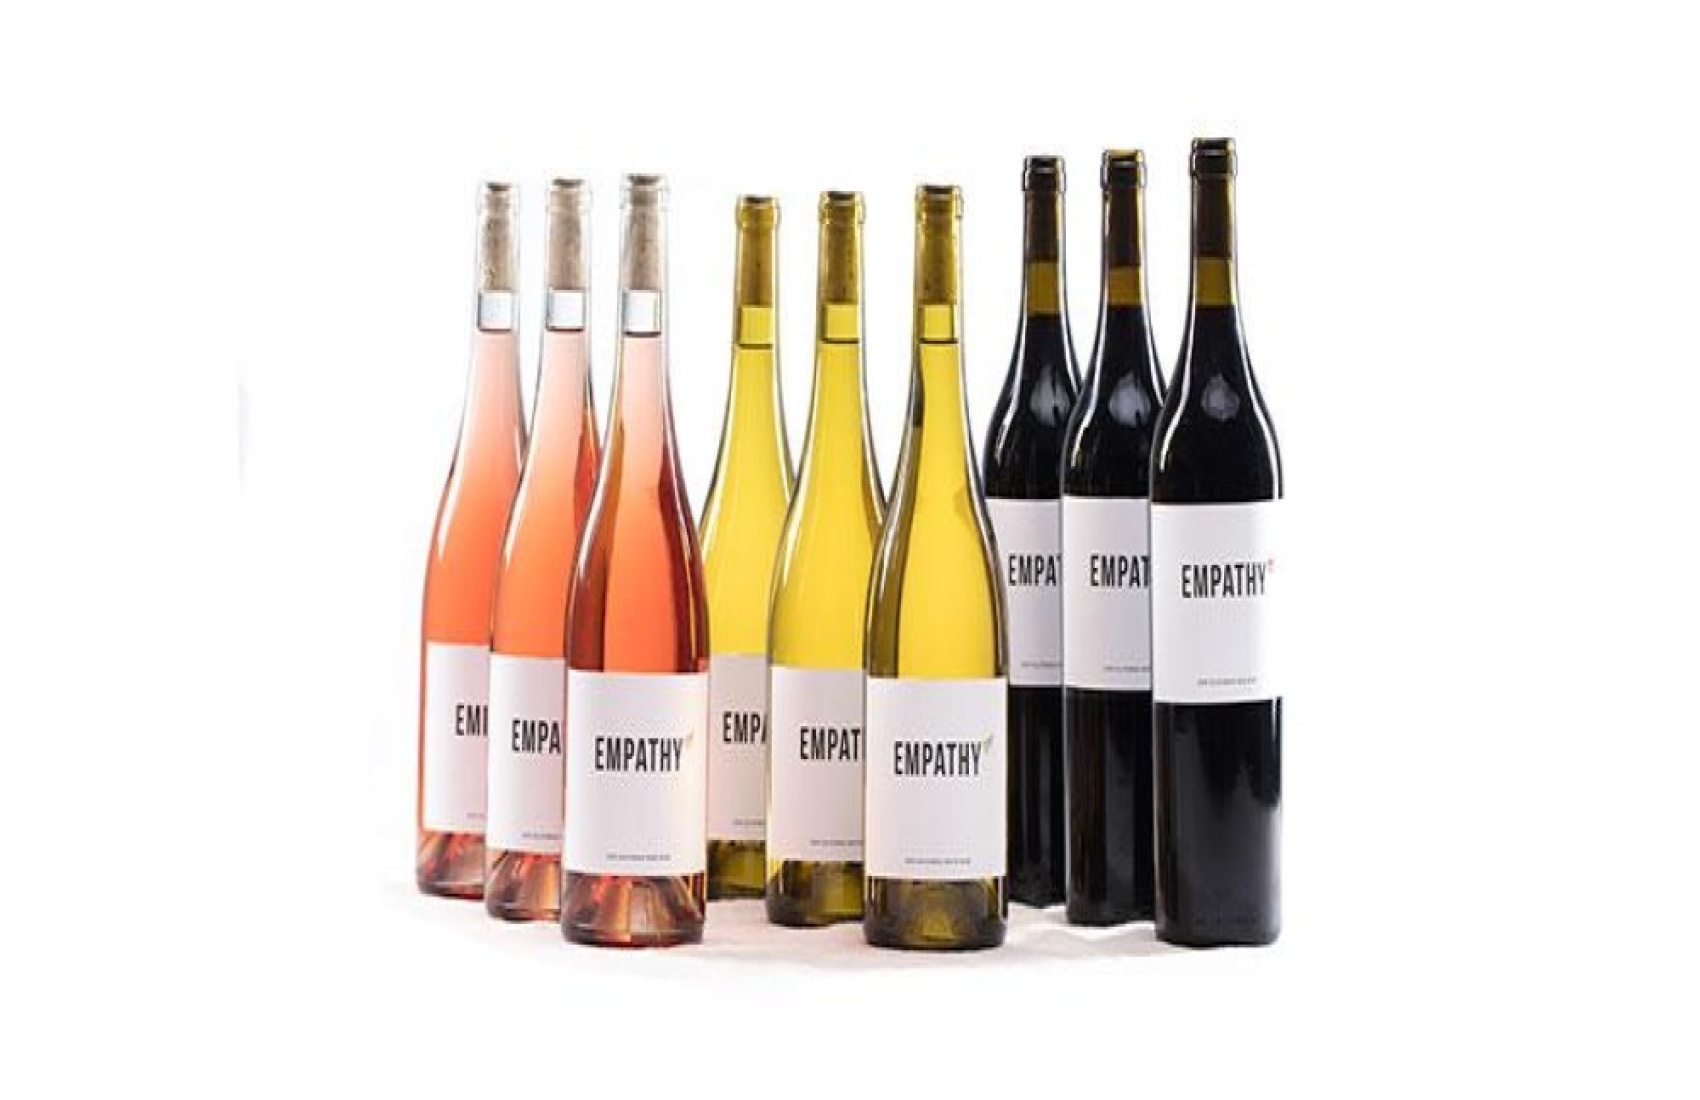wine: (563, 197, 703, 951), (869, 182, 1007, 936), (1144, 180, 1282, 934)
